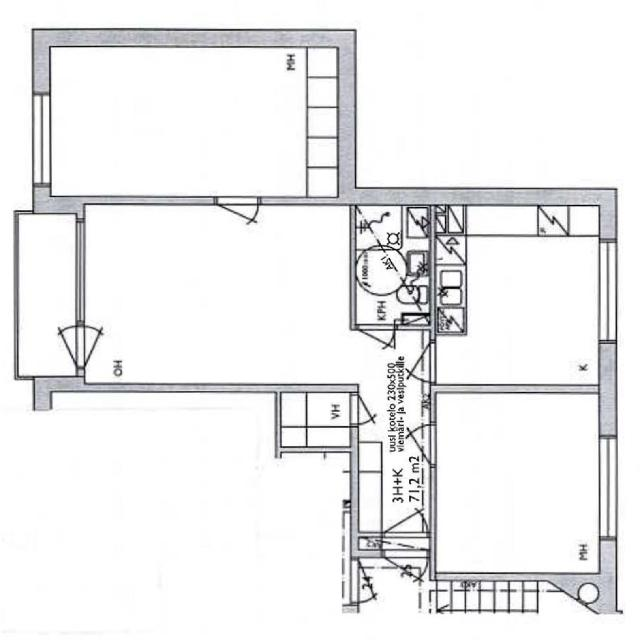door: (59, 321, 105, 369), (385, 502, 428, 538), (220, 194, 264, 228)
window: (592, 435, 622, 542), (69, 217, 92, 328)
zone: (82, 204, 353, 386), (41, 46, 314, 200), (428, 393, 605, 578), (436, 229, 608, 390), (15, 211, 80, 382), (353, 204, 428, 328)
